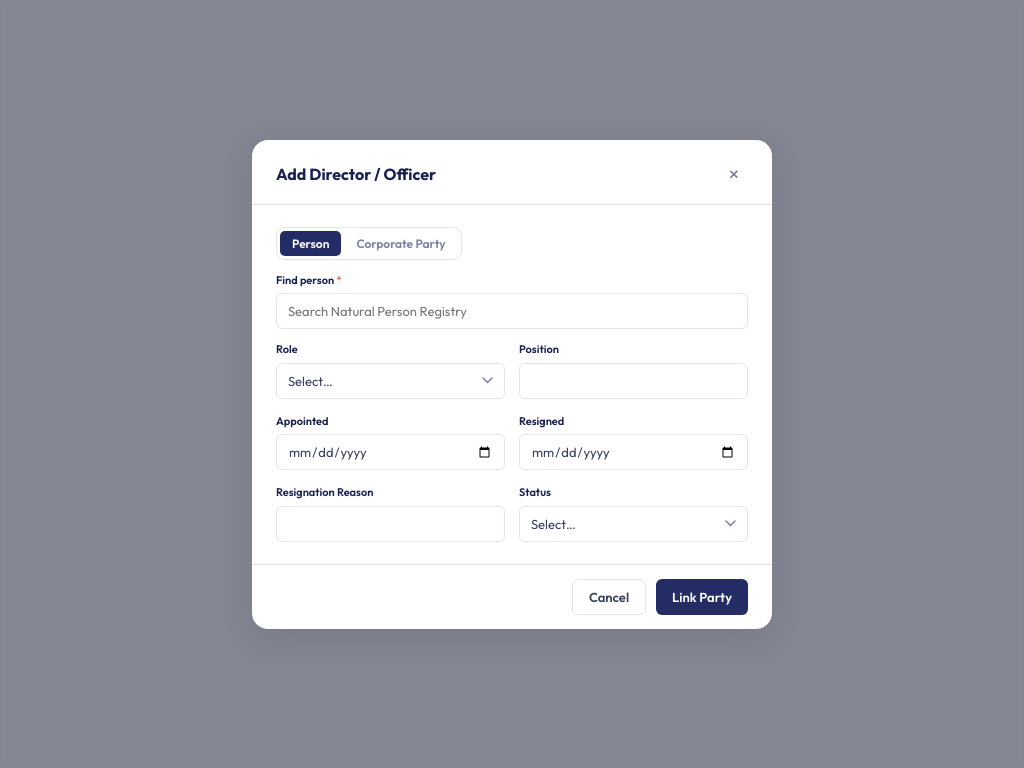
Test case: LinkPartyModal › blocks linking when no party is selected
Click the button "Link Party": {"x": 702, "y": 596} [656,578,748,614]
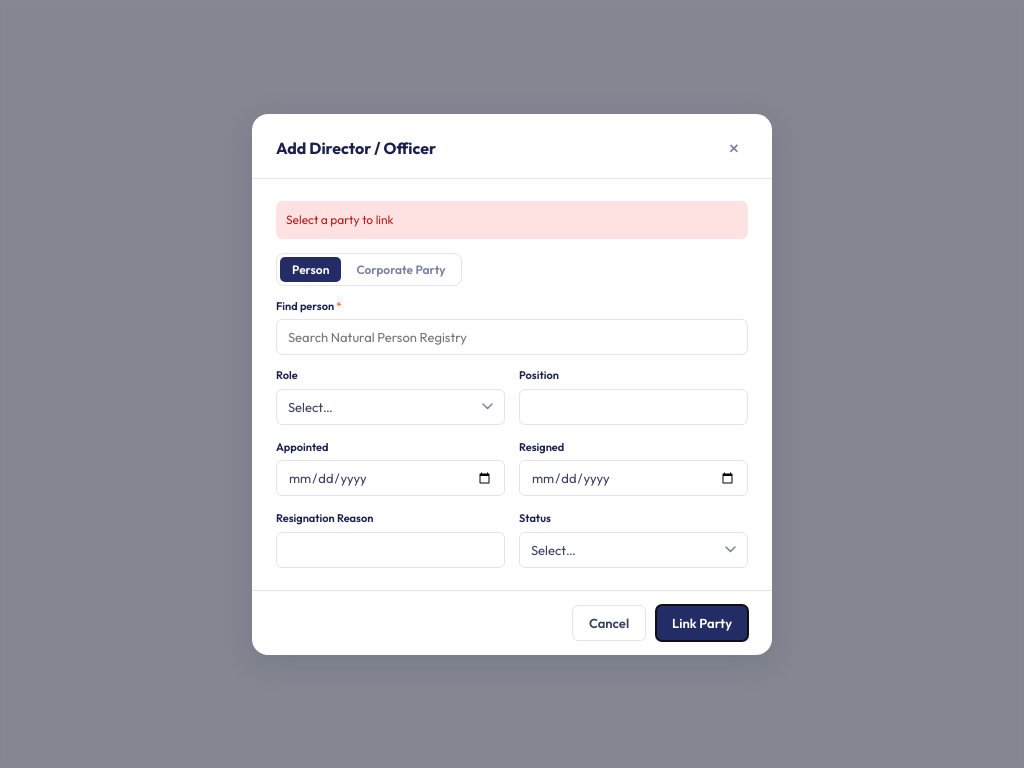
Expected: the text "Select a party to link" is shown, [276,200,748,238]
